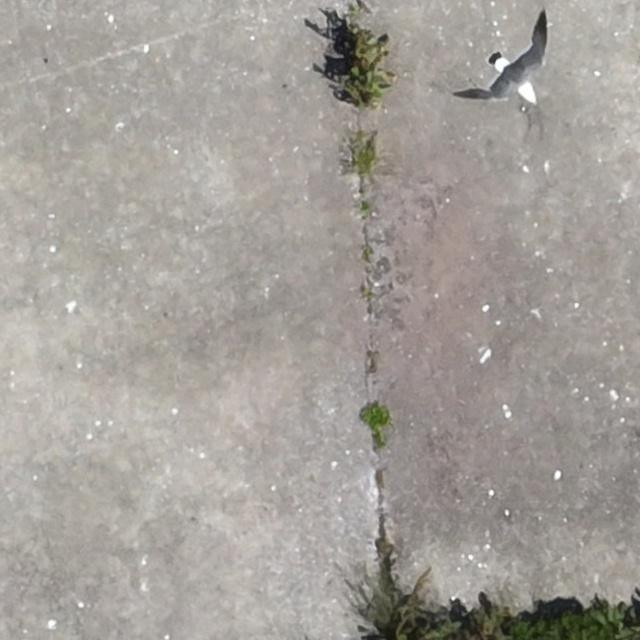F: (474, 29, 556, 103)
